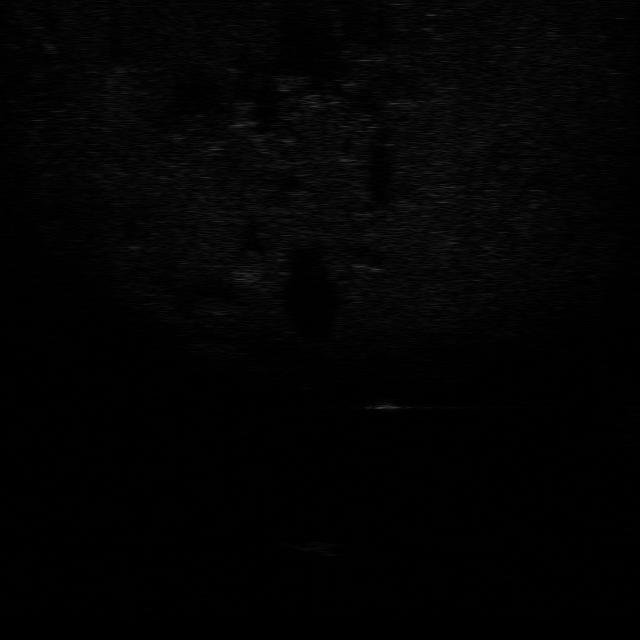cube: (286, 540, 335, 554)
square cage: (362, 397, 412, 418)
